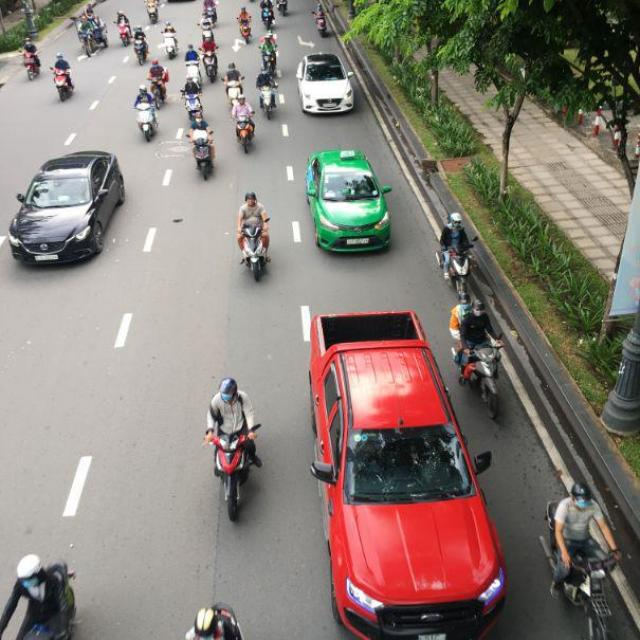car: (308, 323, 508, 638), (9, 151, 125, 268), (304, 146, 394, 255), (295, 51, 356, 117)
motorcycle: (209, 428, 261, 519), (462, 342, 504, 416), (241, 232, 271, 282), (136, 96, 160, 144), (192, 138, 215, 178), (234, 116, 256, 156), (51, 66, 75, 102)
